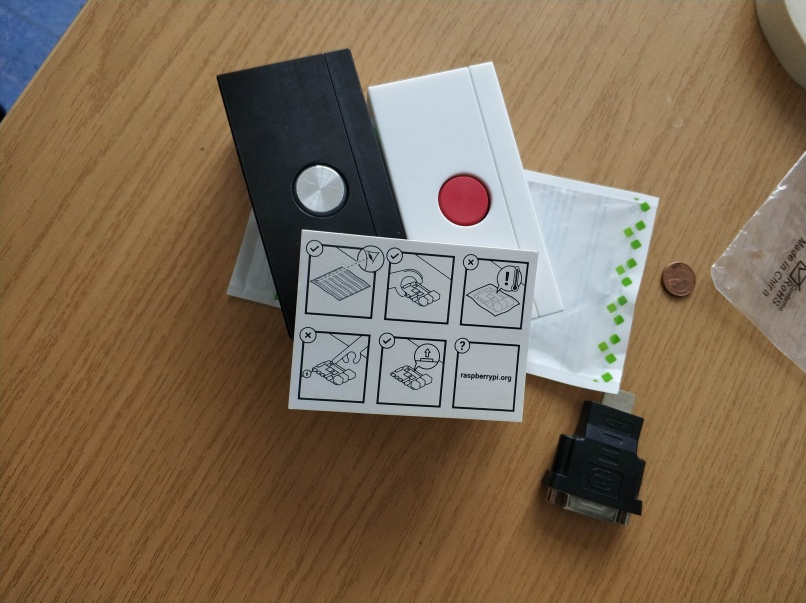black+black+silver: (212, 46, 403, 333)
white+white+red: (363, 60, 565, 326)
